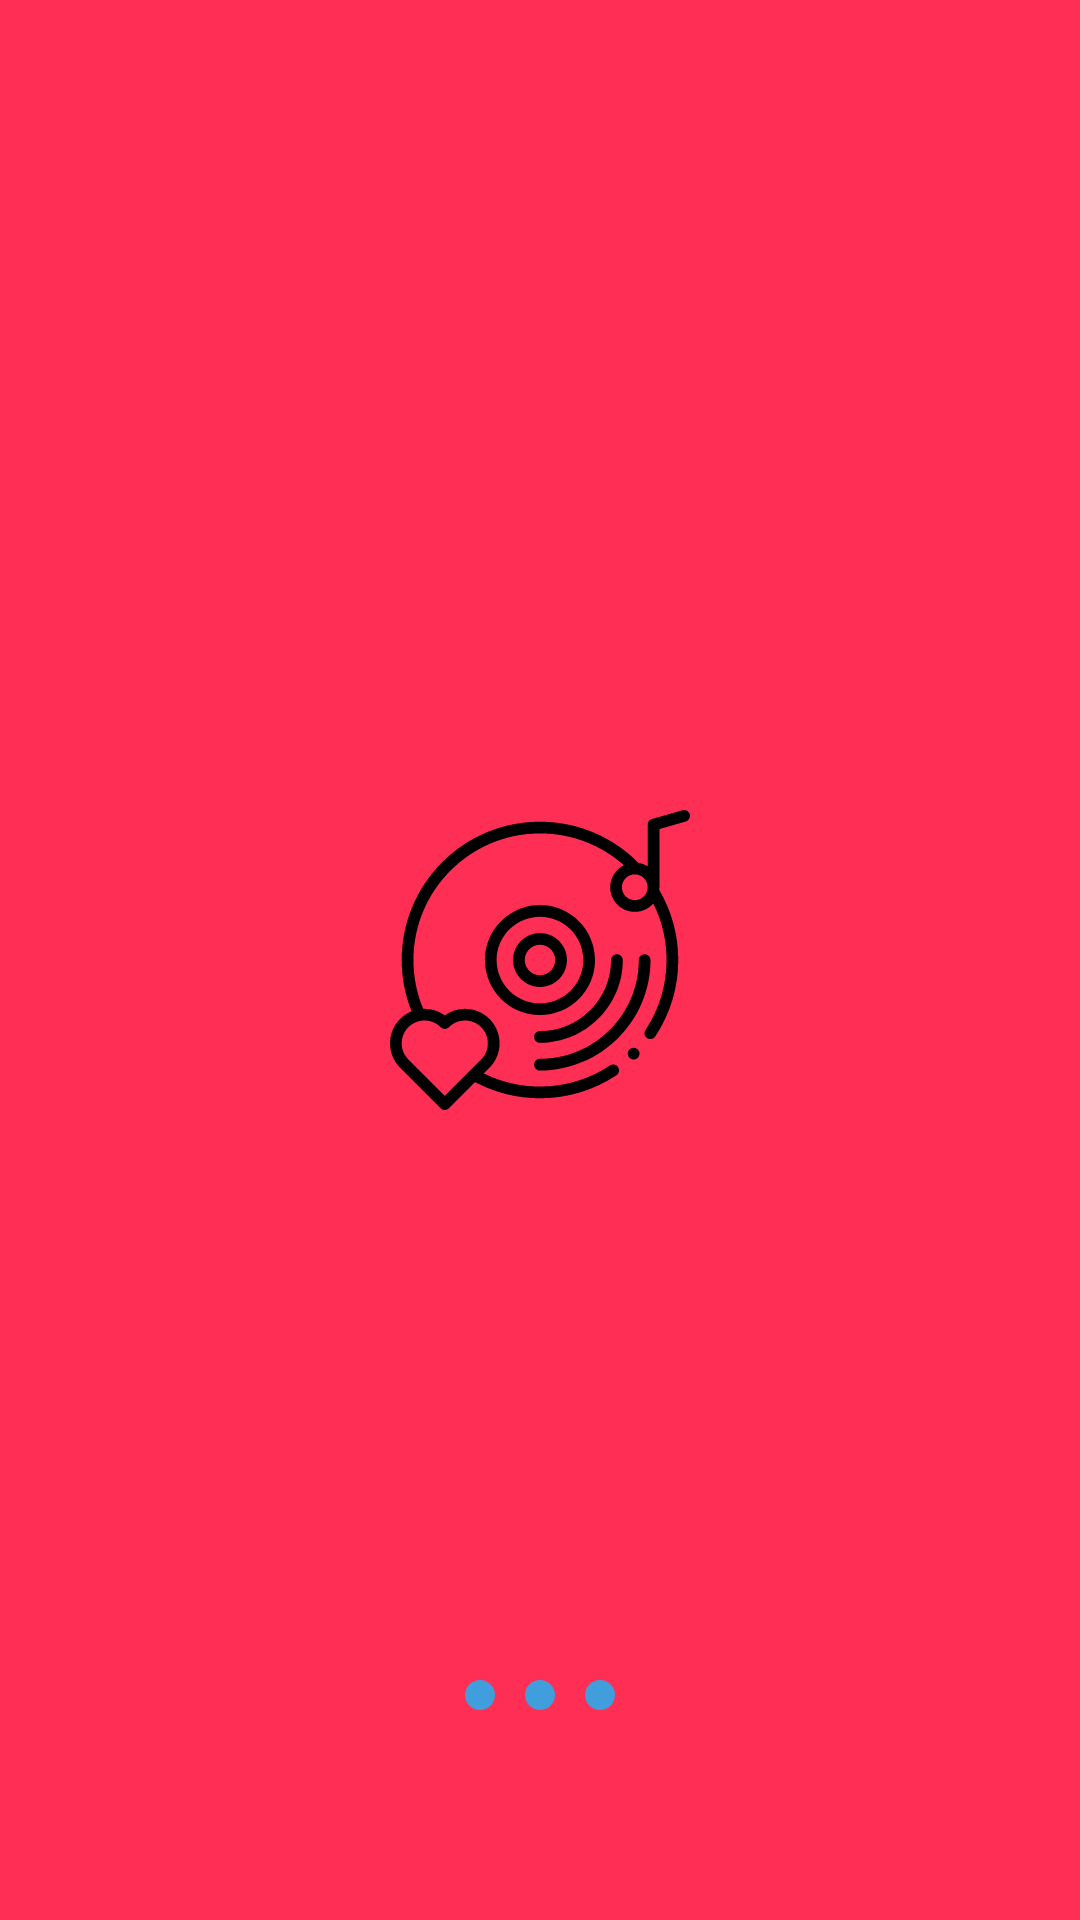

Icon click points for this 1080px×1920px phone screenshot, format (x=x, y=y):
music: (x=540, y=960)
